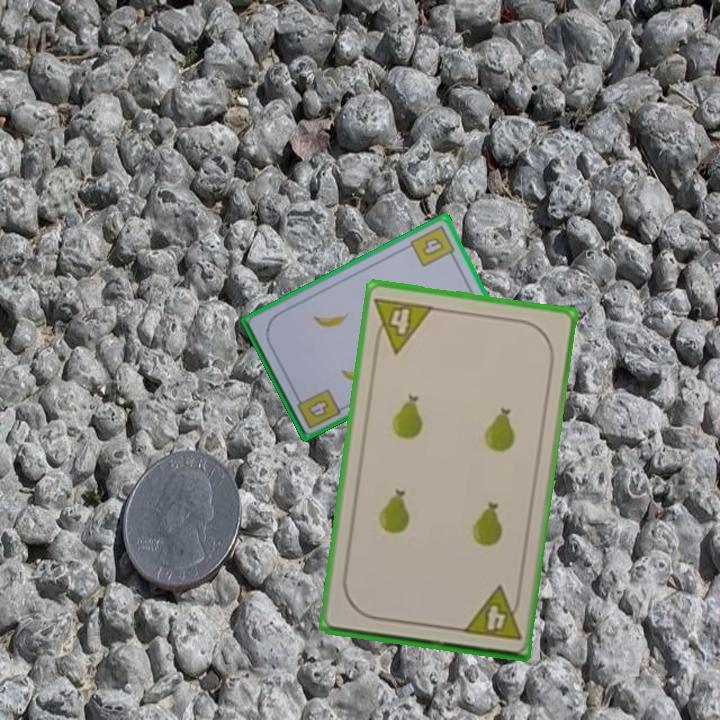4b: (407, 221, 459, 270), (304, 395, 332, 420)
4p: (370, 293, 436, 356), (459, 583, 524, 643)
